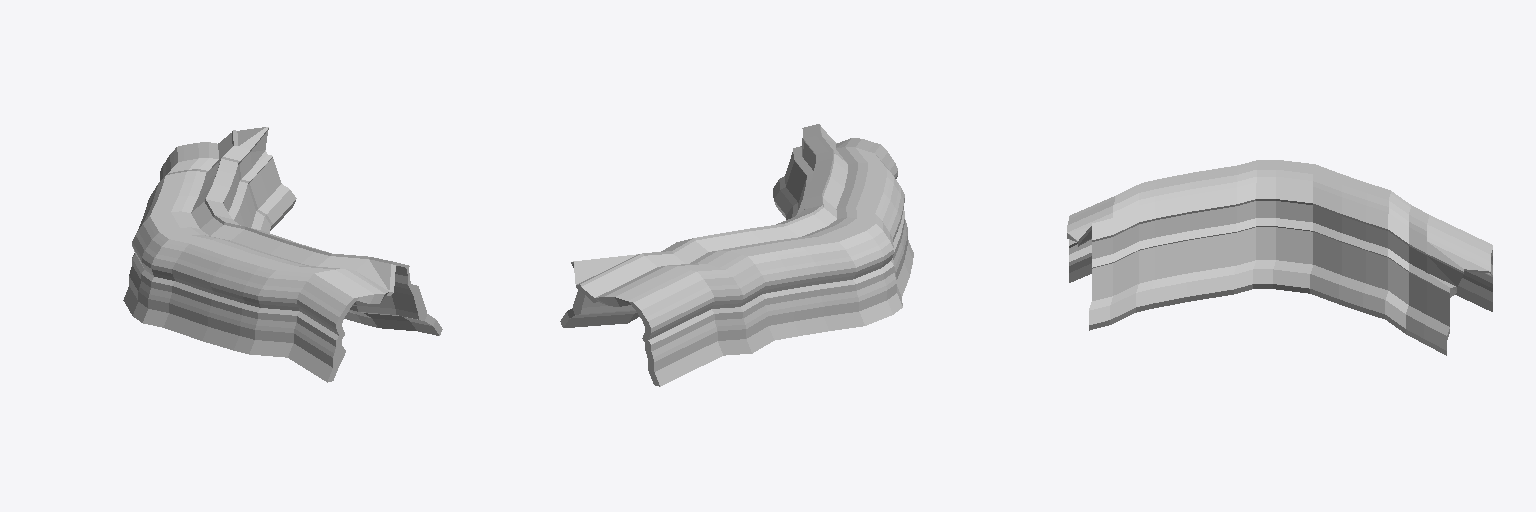
The model's file is curved_cave_wall.obj.
The picture shows the model from 3 angles: view 1: azimuth 30°, elevation 25°; view 2: azimuth 150°, elevation 25°; view 3: azimuth 270°, elevation 25°; orthographic projection.
Parts seen in each view (by area): view 1: Cube; view 2: Cube; view 3: Cube.
Boxes of the visible parts, x1,y1,x2,y2 form: Cube: [123, 127, 442, 382]; Cube: [560, 124, 913, 386]; Cube: [1067, 160, 1492, 355].
Size of the model in its own units: 80.32 by 32.79 by 119.